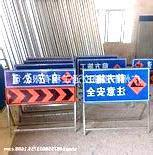sign: (4, 70, 77, 103), (82, 70, 149, 102)
